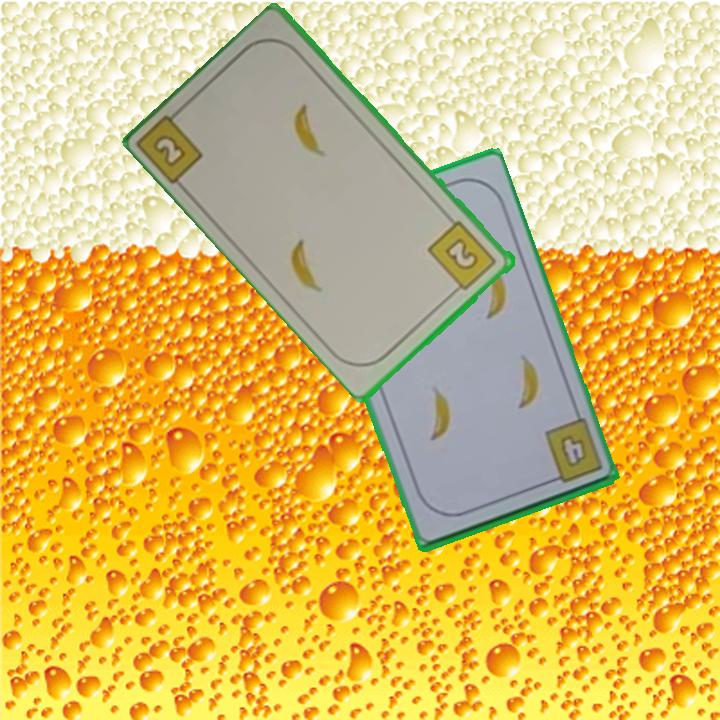2b: (136, 102, 207, 188), (424, 217, 500, 297)
4b: (540, 415, 606, 487)
